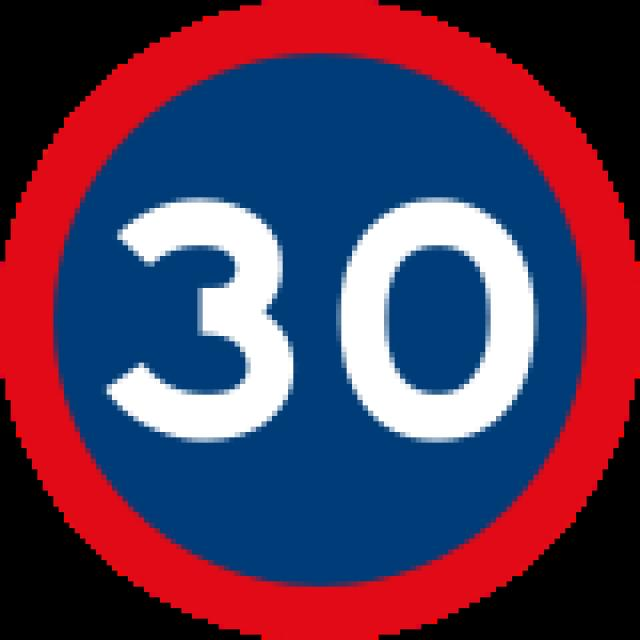Speed Limit -30-: (95, 178, 549, 452)
